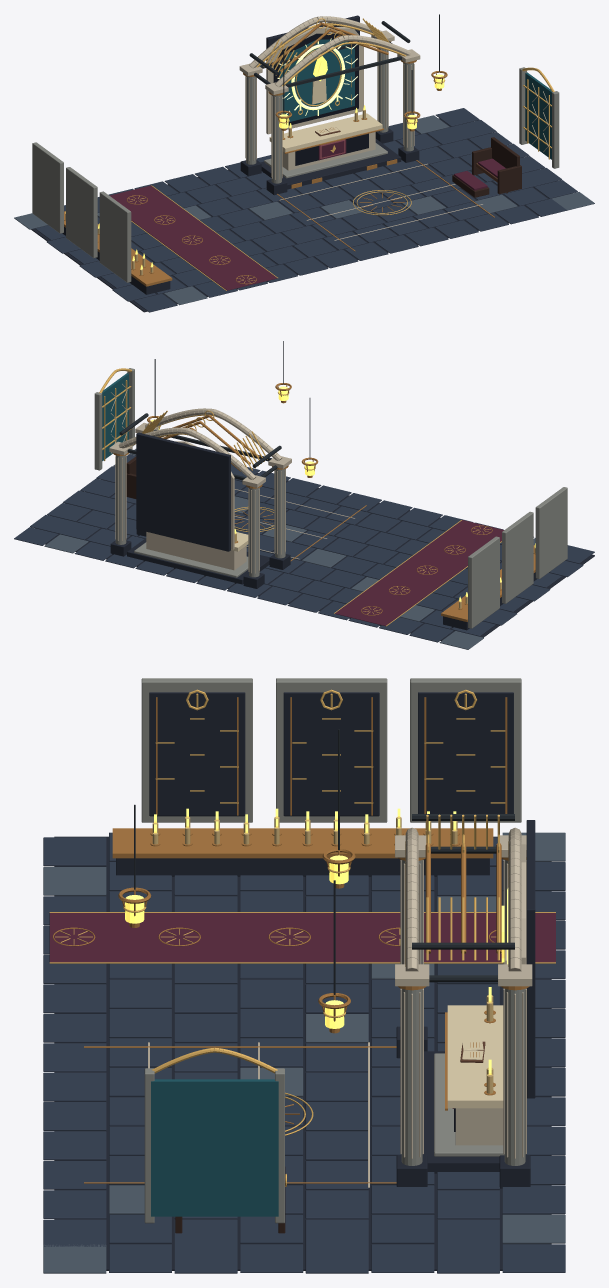
File: candle_chapel.glb
The picture shows the model from 3 angles, top to bottom: view 1: azimuth 30°, elevation 25°; view 2: azimuth 150°, elevation 25°; view 3: azimuth 270°, elevation 25°; orthographic projection. The views are drawn at different scales.
Parts seen in each view (by area): view 1: ChapelV2_Slate, ChapelV2_Limestone, ChapelV2_Velvet, ChapelV2_Alabaster, ChapelV2_Basalt, ChapelV2_TealGlass, ChapelV2_SlateLight, ChapelV2_Gold, ChapelV2_Bronze, ChapelV2_Ivory, ChapelV2_Oak, ChapelV2_Shadow (+3 smaller); view 2: ChapelV2_Slate, ChapelV2_Basalt, ChapelV2_Limestone, ChapelV2_Alabaster, ChapelV2_Velvet, ChapelV2_SlateLight, ChapelV2_Gold, ChapelV2_Bronze, ChapelV2_TealGlass, ChapelV2_Iron, ChapelV2_Oak; view 3: ChapelV2_Slate, ChapelV2_Basalt, ChapelV2_Limestone, ChapelV2_Velvet, ChapelV2_TealGlass, ChapelV2_Bronze, ChapelV2_Alabaster, ChapelV2_SlateLight, ChapelV2_Gold, ChapelV2_Ivory, ChapelV2_Iron, ChapelV2_Wax (+2 smaller).
Boxes of the visible parts, box(x1,y1,x2,y2) form: ChapelV2_Slate: box(35, 108, 577, 312); ChapelV2_Limestone: box(32, 48, 559, 282); ChapelV2_Velvet: box(110, 139, 505, 290); ChapelV2_Alabaster: box(239, 16, 548, 240); ChapelV2_Basalt: box(31, 15, 549, 312); ChapelV2_TealGlass: box(279, 39, 551, 159); ChapelV2_SlateLight: box(14, 115, 594, 305); ChapelV2_Gold: box(128, 18, 554, 290); ChapelV2_Bronze: box(64, 22, 494, 286); ChapelV2_Ivory: box(269, 78, 382, 152); ChapelV2_Oak: box(452, 137, 521, 197); ChapelV2_Shadow: box(273, 33, 368, 165); ChapelV2_Slate: box(14, 454, 594, 642); ChapelV2_Basalt: box(45, 432, 594, 640); ChapelV2_Limestone: box(94, 368, 567, 628); ChapelV2_Alabaster: box(109, 384, 354, 573); ChapelV2_Velvet: box(335, 520, 503, 626); ChapelV2_SlateLight: box(44, 449, 535, 649); ChapelV2_Gold: box(99, 368, 501, 626); ChapelV2_Bronze: box(113, 383, 535, 621); ChapelV2_TealGlass: box(102, 373, 128, 460); ChapelV2_Iron: box(119, 341, 310, 480); ChapelV2_Oak: box(126, 456, 136, 498); ChapelV2_Slate: box(43, 832, 565, 1273); ChapelV2_Basalt: box(54, 692, 551, 1270); ChapelV2_Limestone: box(141, 678, 525, 1223); ChapelV2_Velvet: box(49, 913, 555, 1108); ChapelV2_TealGlass: box(151, 1079, 278, 1216); ChapelV2_Bronze: box(52, 697, 529, 1183); ChapelV2_Alabaster: box(148, 827, 532, 1187); ChapelV2_SlateLight: box(43, 832, 565, 1273); ChapelV2_Gold: box(49, 689, 555, 1186); ChapelV2_Ivory: box(447, 949, 506, 1108); ChapelV2_Iron: box(134, 729, 514, 994); ChapelV2_Wax: box(152, 817, 493, 1093).
Size of what is drawn, in the model's own units: 23.64 by 7.89 by 11.86.
